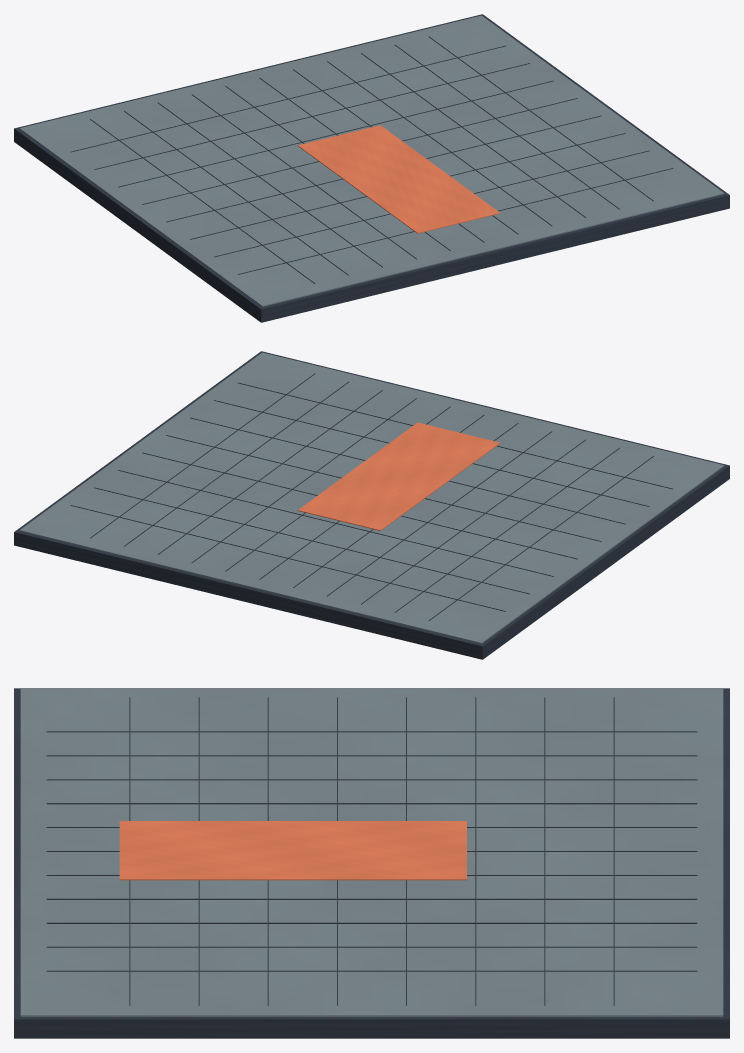
The model's file is atlas100-s025-a07.glb.
3 renders of one model, top to bottom at view 1: azimuth 30°, elevation 25°; view 2: azimuth 150°, elevation 25°; view 3: azimuth 270°, elevation 25°, orthographic. The views are drawn at different scales.
Parts seen in each view (by area): view 1: atlas100-s025-a07:part-001, atlas100-s025-a07:part-000, atlas100-s025-a07:part-021, atlas100-s025-a07:part-015, atlas100-s025-a07:part-014, atlas100-s025-a07:part-013, atlas100-s025-a07:part-017, atlas100-s025-a07:part-016, atlas100-s025-a07:part-019, atlas100-s025-a07:part-018, atlas100-s025-a07:part-020; view 2: atlas100-s025-a07:part-001, atlas100-s025-a07:part-000, atlas100-s025-a07:part-021, atlas100-s025-a07:part-013, atlas100-s025-a07:part-015, atlas100-s025-a07:part-014, atlas100-s025-a07:part-016, atlas100-s025-a07:part-017, atlas100-s025-a07:part-019, atlas100-s025-a07:part-018, atlas100-s025-a07:part-020; view 3: atlas100-s025-a07:part-001, atlas100-s025-a07:part-000, atlas100-s025-a07:part-021, atlas100-s025-a07:part-009, atlas100-s025-a07:part-011, atlas100-s025-a07:part-012, atlas100-s025-a07:part-004, atlas100-s025-a07:part-005, atlas100-s025-a07:part-002, atlas100-s025-a07:part-003, atlas100-s025-a07:part-010, atlas100-s025-a07:part-015 (+2 smaller).
Boxes of the visible parts, x1,y1,x2,y2 form: atlas100-s025-a07:part-001: (19,15,724,306); atlas100-s025-a07:part-000: (14,14,729,322); atlas100-s025-a07:part-021: (297,125,500,233); atlas100-s025-a07:part-015: (118,80,553,187); atlas100-s025-a07:part-014: (94,63,529,169); atlas100-s025-a07:part-013: (71,45,505,152); atlas100-s025-a07:part-017: (166,115,601,222); atlas100-s025-a07:part-016: (142,98,577,204); atlas100-s025-a07:part-019: (214,150,649,257); atlas100-s025-a07:part-018: (190,133,625,239); atlas100-s025-a07:part-020: (238,168,673,274); atlas100-s025-a07:part-001: (19,352,724,643); atlas100-s025-a07:part-000: (14,351,729,659); atlas100-s025-a07:part-021: (297,422,500,530); atlas100-s025-a07:part-013: (70,505,505,611); atlas100-s025-a07:part-015: (118,470,553,576); atlas100-s025-a07:part-014: (94,487,529,594); atlas100-s025-a07:part-016: (142,452,577,559); atlas100-s025-a07:part-017: (166,435,601,541); atlas100-s025-a07:part-019: (214,400,649,506); atlas100-s025-a07:part-018: (190,417,625,524); atlas100-s025-a07:part-020: (238,382,672,489); atlas100-s025-a07:part-001: (20,689,723,1016); atlas100-s025-a07:part-000: (14,688,729,1038); atlas100-s025-a07:part-021: (119,821,466,880); atlas100-s025-a07:part-009: (46,898,697,899); atlas100-s025-a07:part-011: (46,946,697,947); atlas100-s025-a07:part-012: (46,970,697,971); atlas100-s025-a07:part-004: (46,779,697,780); atlas100-s025-a07:part-005: (46,803,697,804); atlas100-s025-a07:part-002: (46,731,697,732); atlas100-s025-a07:part-003: (46,755,697,756); atlas100-s025-a07:part-010: (46,922,697,923); atlas100-s025-a07:part-015: (475,697,476,1005).
Size of the model in its own units: 12.46 by 0.404 by 11.39.
Materials: 3 (3 with a texture image).
